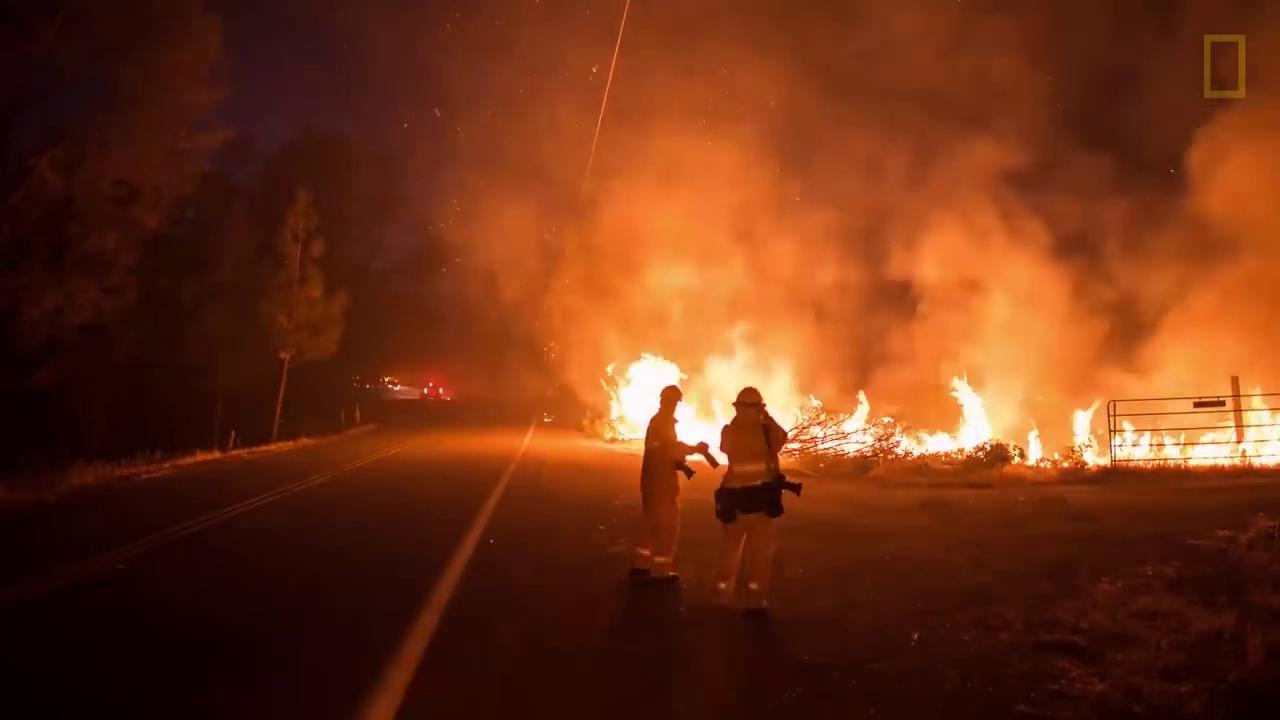Fire: (606, 317, 794, 462), (1064, 386, 1280, 470), (795, 378, 990, 460), (1007, 430, 1048, 467)
